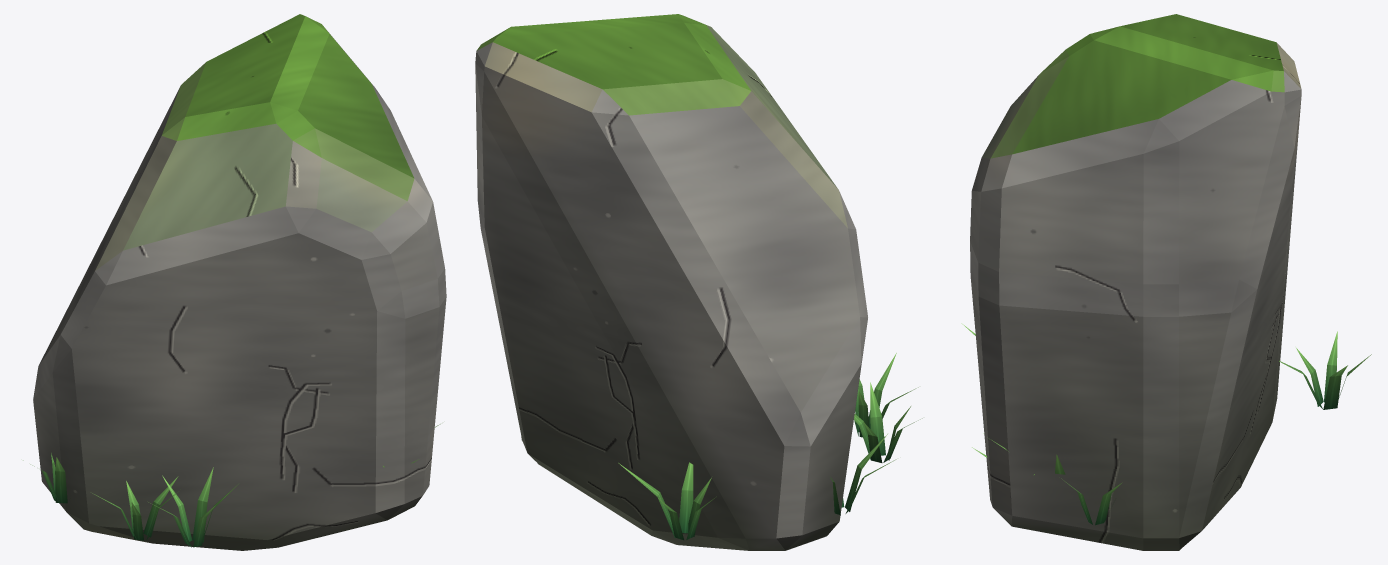
Rendered from boulder_4.glb.
3 views of the same model, side by side, from view 1: azimuth 30°, elevation 25°; view 2: azimuth 150°, elevation 25°; view 3: azimuth 270°, elevation 25° (orthographic). The views are drawn at different scales.
Visible parts, largest first — view 1: boulder_4_rock, boulder_4_weeds; view 2: boulder_4_rock, boulder_4_weeds; view 3: boulder_4_rock, boulder_4_weeds.
Part boxes in pixels (bbox=[...]): boulder_4_rock: bbox=[33, 14, 446, 550]; boulder_4_weeds: bbox=[23, 424, 440, 547]; boulder_4_rock: bbox=[475, 14, 867, 550]; boulder_4_weeds: bbox=[618, 353, 922, 540]; boulder_4_rock: bbox=[970, 14, 1301, 550]; boulder_4_weeds: bbox=[961, 323, 1371, 525].
Bounding box in the file's own units: 1.88 × 2.15 × 1.56.
2 materials, 2 textured.
